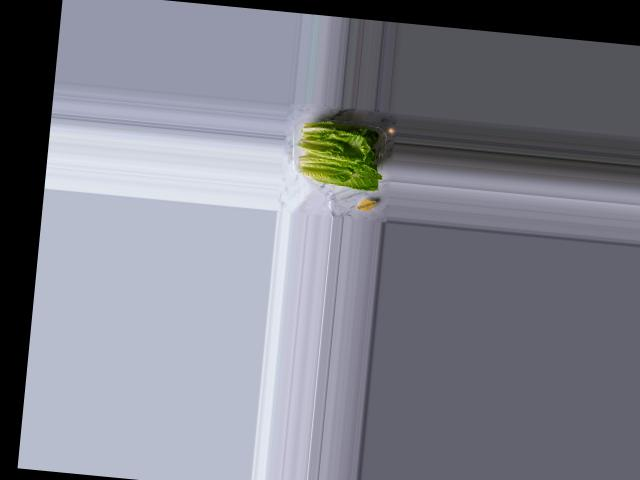lettuce: (293, 116, 387, 195)
